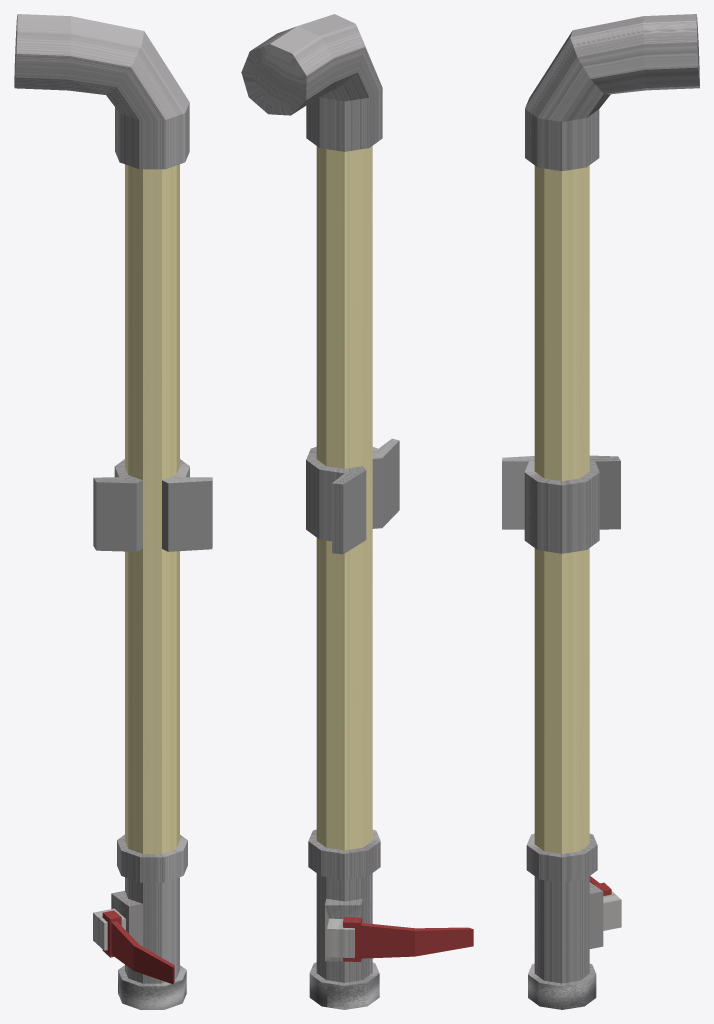
The model's file is kitchen_pipe.FBX.
3 views of the same model, side by side, from view 1: azimuth 90°, elevation 25°; view 2: azimuth 150°, elevation 25°; view 3: azimuth 270°, elevation 25° (orthographic). The views are drawn at different scales.
Parts seen in each view (by area): view 1: Cylinder001, Object006, Object004, Object005, Object003, Object002, Object001; view 2: Cylinder001, Object006, Object004, Object005, Object003, Object002, Object001; view 3: Cylinder001, Object006, Object004, Object005, Object003, Object001.
Part boxes in pixels (<box>): Cylinder001: <box>111,480,179,983</box>; Object006: <box>125,164,179,480</box>; Object004: <box>14,14,189,169</box>; Object005: <box>93,459,212,551</box>; Object003: <box>117,834,187,1009</box>; Object002: <box>102,910,174,984</box>; Object001: <box>93,908,125,950</box>; Cylinder001: <box>316,459,372,982</box>; Object006: <box>316,146,372,468</box>; Object004: <box>241,14,382,151</box>; Object005: <box>306,438,399,554</box>; Object003: <box>308,829,380,1009</box>; Object002: <box>343,917,473,961</box>; Object001: <box>327,918,354,958</box>; Cylinder001: <box>534,548,603,983</box>; Object006: <box>534,165,589,480</box>; Object004: <box>525,14,699,171</box>; Object005: <box>502,455,620,553</box>; Object003: <box>526,833,597,1009</box>; Object001: <box>603,891,621,930</box>.
Bounding box in the file's own units: 53.85 × 338 × 62.05.
4 materials, 4 textured.
